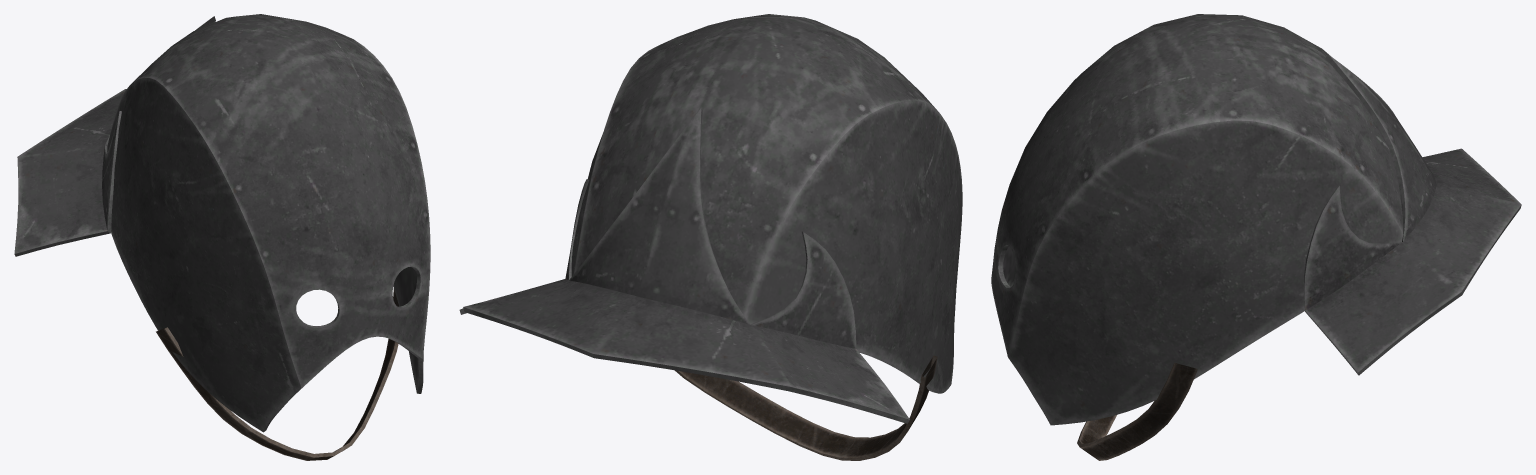
File: sk_uruk_hai_helmet_nazg_a4.fbx
3 views of the same model, side by side, from view 1: azimuth 30°, elevation 25°; view 2: azimuth 150°, elevation 25°; view 3: azimuth 270°, elevation 25° (orthographic). The views are drawn at different scales.
Visible parts, largest first — view 1: sk_uruk_hai_helmet_nazg_a4.0, sk_uruk_hai_helmet_nazg_a4.1; view 2: sk_uruk_hai_helmet_nazg_a4.0, sk_uruk_hai_helmet_nazg_a4.1; view 3: sk_uruk_hai_helmet_nazg_a4.0, sk_uruk_hai_helmet_nazg_a4.1.
Part boxes in pixels (bbox=[...]): sk_uruk_hai_helmet_nazg_a4.0: bbox=[14, 14, 430, 432]; sk_uruk_hai_helmet_nazg_a4.1: bbox=[156, 288, 398, 460]; sk_uruk_hai_helmet_nazg_a4.0: bbox=[459, 14, 962, 423]; sk_uruk_hai_helmet_nazg_a4.1: bbox=[675, 355, 937, 460]; sk_uruk_hai_helmet_nazg_a4.0: bbox=[991, 14, 1521, 425]; sk_uruk_hai_helmet_nazg_a4.1: bbox=[1077, 362, 1197, 460].
Size of the model in its own units: 0.2893 by 0.3288 by 0.2916.
2 materials, 2 textured.
